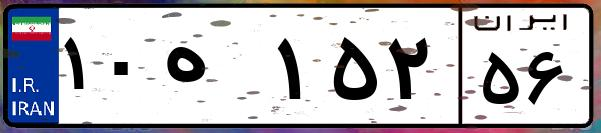0: (110, 28, 158, 98)
1: (270, 28, 330, 110), (57, 26, 110, 100)
2: (385, 28, 445, 110)
5: (330, 28, 385, 110), (475, 38, 525, 113)
6: (525, 38, 570, 115)
ه: (158, 20, 270, 120)
